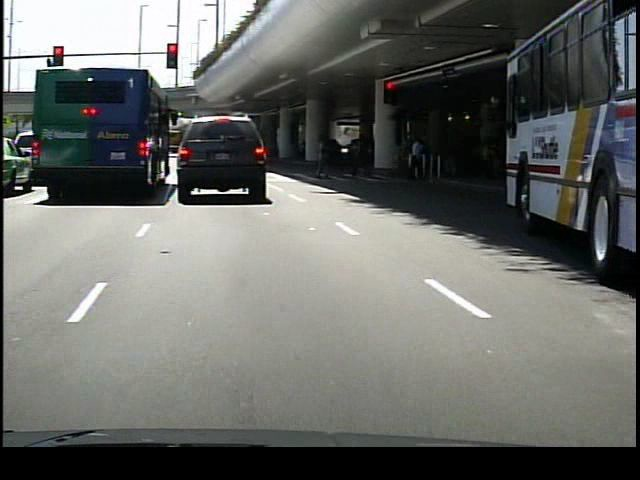person: (312, 130, 338, 180), (353, 129, 376, 184), (406, 134, 426, 184)
